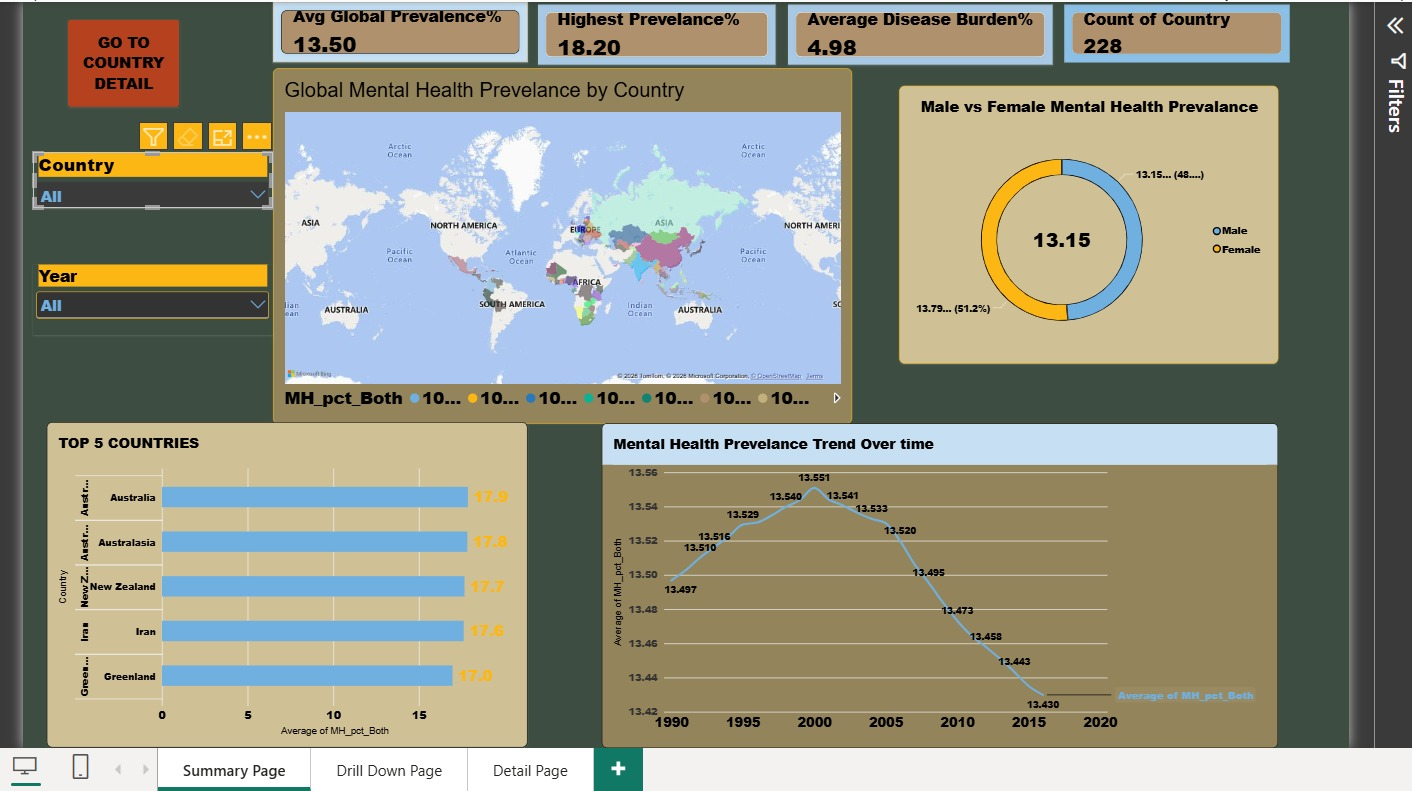

What the dashboard file says about the page in this screenshot:
{"tool":"powerbi","page":{"name":"Summary Page","canvas":[1920,1080],"ordinal":0},"visuals":[{"type":"filledMap","title":"Global Mental Health Prevelance by Country","fields":{"Category":["mental_health_disorder_prevalen.Country"],"Series":["mental_health_disorder_prevalen.MH_pct_Both"]},"box":[361.2,95.9,838.8,514.3],"z":0},{"type":"cardVisual","fields":{"Data":["Avg(mental_health_disorder_prevalen.MH_pct_Both)"]},"box":[361.2,0,369.4,87.8],"z":1000},{"type":"cardVisual","fields":{"Data":["Max(mental_health_disorder_prevalen.MH_pct_Both)"]},"box":[744.9,4.1,344.9,87.8],"z":2000},{"type":"cardVisual","fields":{"Data":["Avg(mental_health_disorder_prevalen.MH_DALY_Pct)"]},"box":[1108.2,4.1,383.7,87.8],"z":3000},{"type":"lineChart","title":"Mental Health Prevelance Trend Over time ","fields":{"Category":["mental_health_disorder_prevalen.Year"],"Y":["Avg(mental_health_disorder_prevalen.MH_pct_Both)"]},"box":[837.9,609.9,979,470.5],"z":4000},{"type":"clusteredBarChart","title":"TOP 5 COUNTRIES","fields":{"Category":["mental_health_disorder_prevalen.Country","mental_health_disorder_prevalen.Country"],"Y":["Avg(mental_health_disorder_prevalen.MH_pct_Both)"]},"box":[34.7,608.2,695.9,471.4],"z":5000},{"type":"slicer","fields":{"Values":["mental_health_disorder_prevalen.Year"]},"box":[14.3,379.6,346.9,102],"z":6000},{"type":"slicer","fields":{"Values":["mental_health_disorder_prevalen.Country"]},"box":[14.3,216.3,346.9,81.6],"z":7000},{"type":"donutChart","title":"Male vs Female Mental Health Prevalance","fields":{"Y":["Avg(mental_health_disorder_prevalen.MH_Pct_Male)","Avg(mental_health_disorder_prevalen.MH_Pct_Female)"]},"box":[1269.4,120.4,549,402],"z":8000},{"type":"cardVisual","fields":{"Data":["Count(mental_health_disorder_prevalen.Country)"]},"box":[1508.2,4.1,326.5,83.7],"z":9000},{"type":"actionButton","box":[65.3,24.5,161.2,126.5],"z":10000}]}

Visuals, with their boxes in screenshot pixels (x1, y1, x2, y2):
"Global Mental Health Prevelance by Country" filledMap: box(266, 63, 850, 421)
cardVisual - Avg(mental_health_disorder_prevalen.MH_pct_Both): box(266, 0, 523, 57)
cardVisual - Max(mental_health_disorder_prevalen.MH_pct_Both): box(533, 0, 774, 60)
cardVisual - Avg(mental_health_disorder_prevalen.MH_DALY_Pct): box(786, 0, 1054, 60)
"Mental Health Prevelance Trend Over time " lineChart: box(598, 421, 1280, 749)
"TOP 5 COUNTRIES" clusteredBarChart: box(39, 420, 523, 748)
slicer - mental_health_disorder_prevalen.Year: box(25, 261, 266, 332)
slicer - mental_health_disorder_prevalen.Country: box(25, 147, 266, 204)
"Male vs Female Mental Health Prevalance" donutChart: box(899, 80, 1281, 360)
cardVisual - Count(mental_health_disorder_prevalen.Country): box(1065, 0, 1292, 57)
actionButton: box(60, 13, 172, 101)
